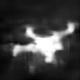plane: (8, 20, 79, 67)
